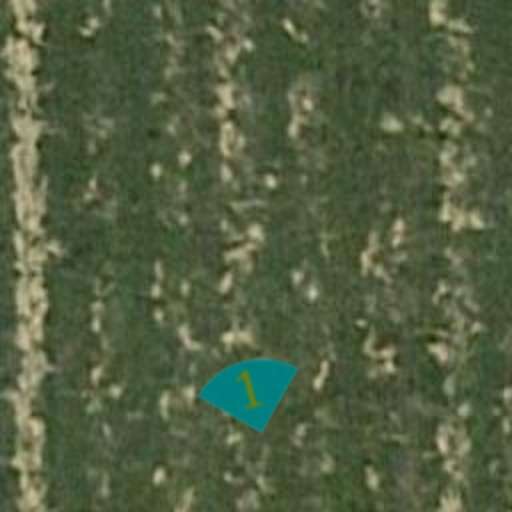quarter_circle: (188, 328, 312, 452)
